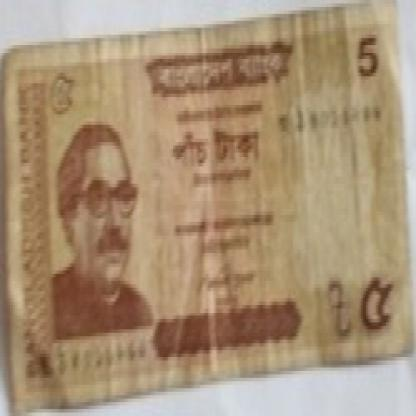Five Taka: (168, 125, 266, 173), (358, 263, 394, 340), (47, 66, 78, 118), (356, 28, 381, 83)
